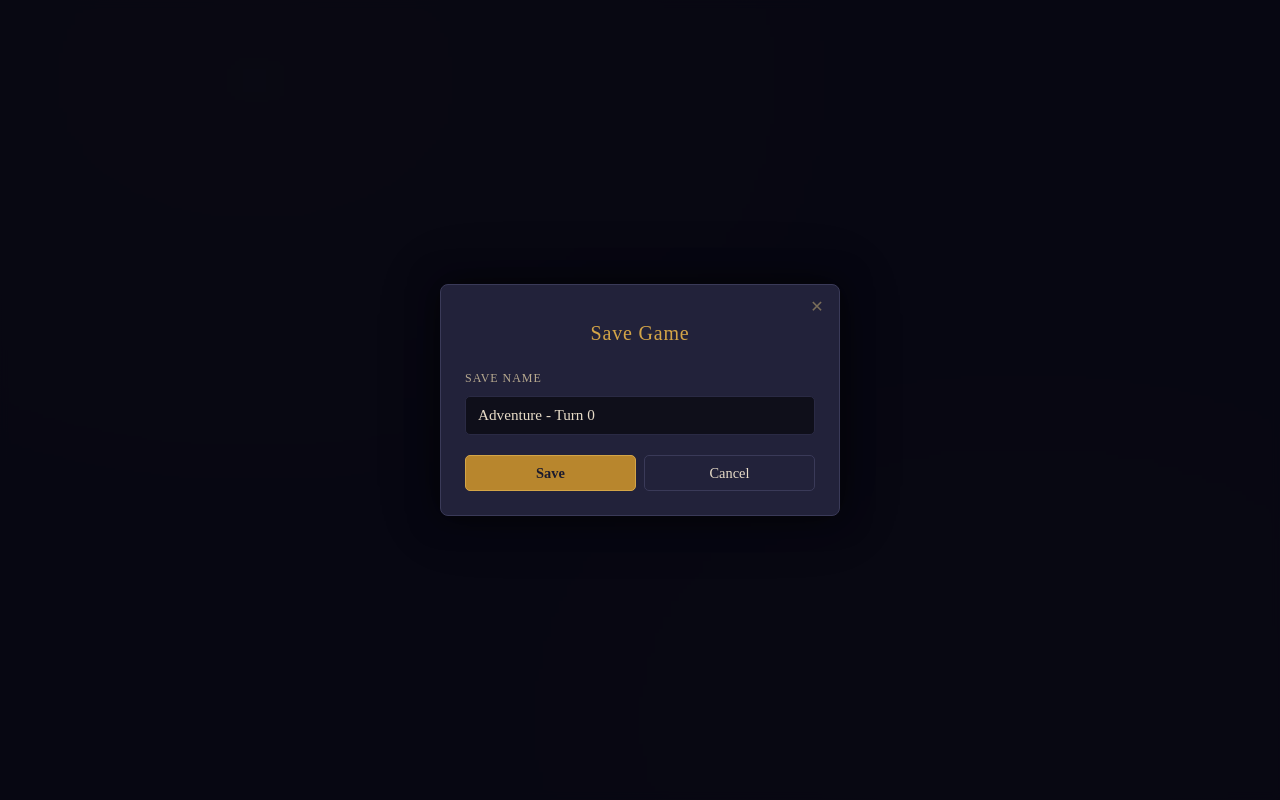
it: SaveGameModal › input phase › shows error when trying to save with empty name
The width and height of the screenshot is (1280, 800).
Clear the field labelled "Save Name" at (640, 415), box top-left (465, 396), bottom-right (815, 435)
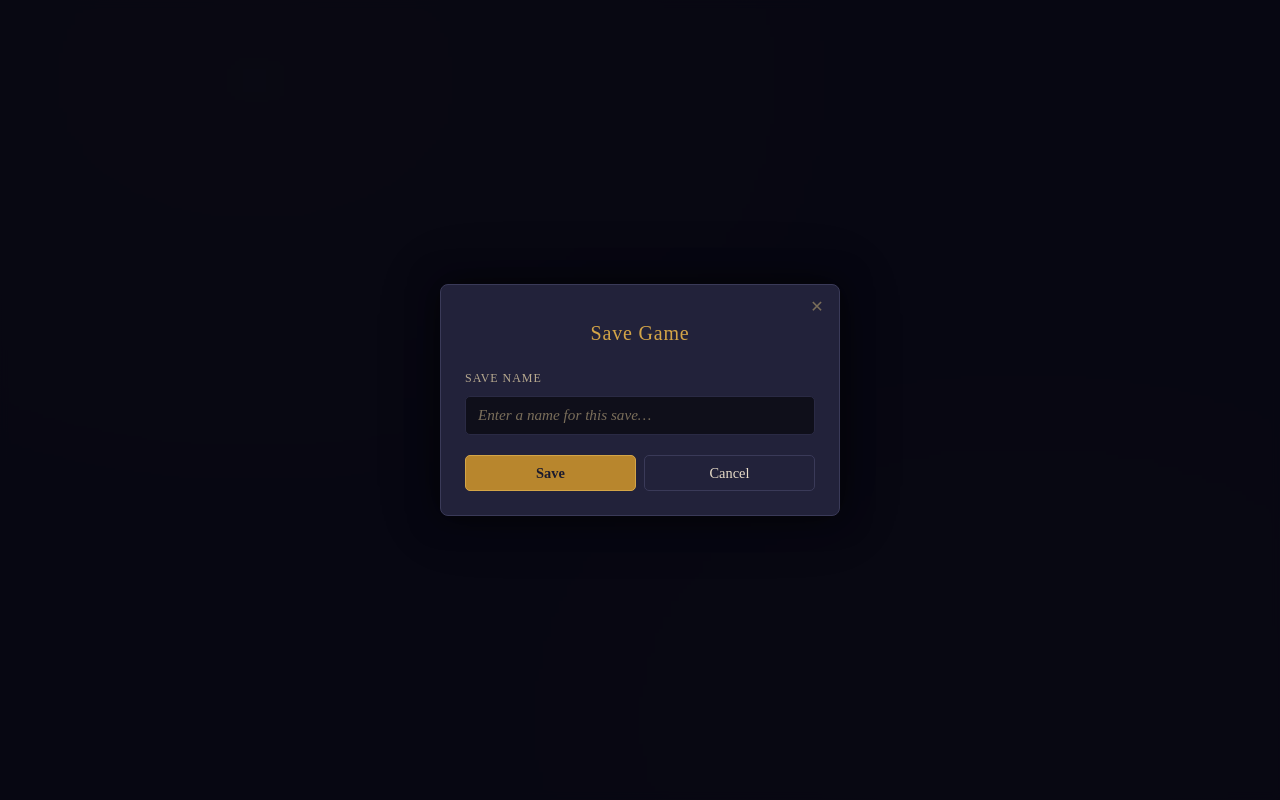
Click the button "Save".
click(550, 473)  # box top-left (465, 455), bottom-right (636, 492)
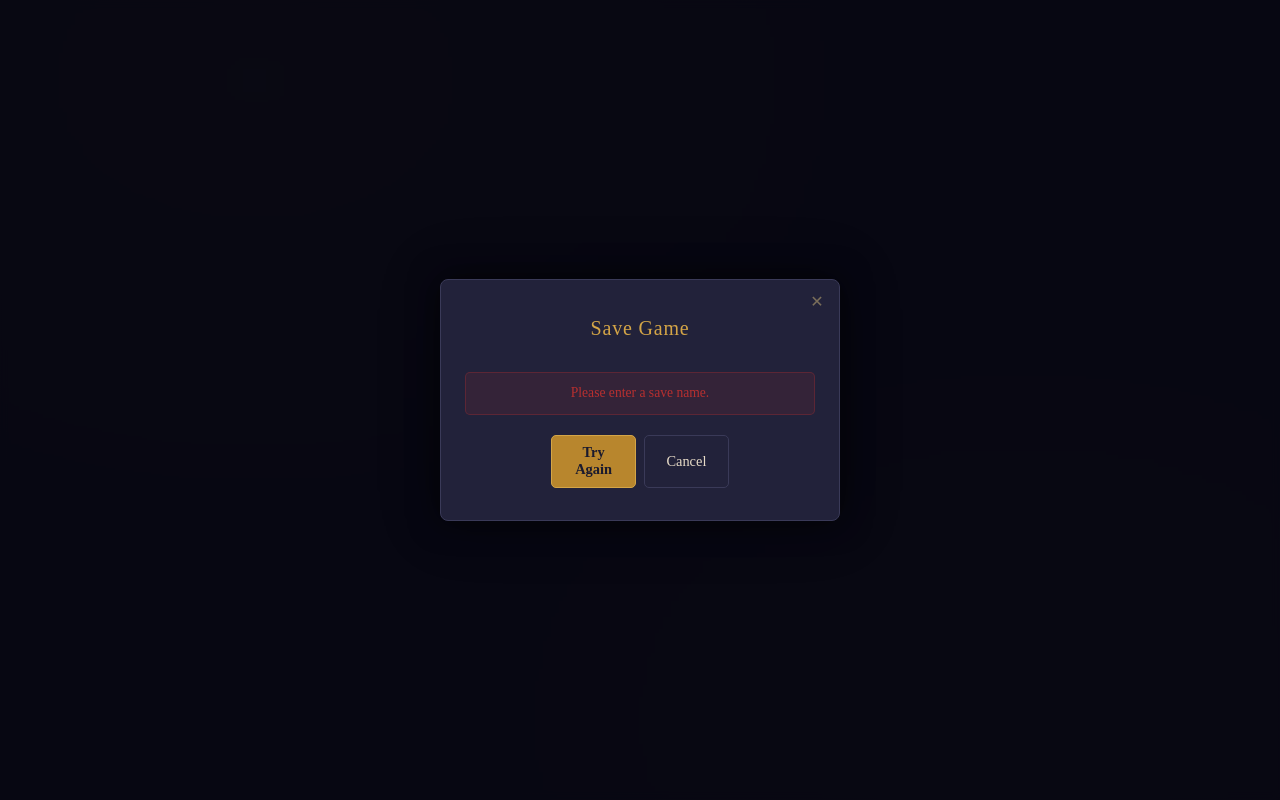
expect the text "Please enter a save name." is shown: met, box top-left (465, 372), bottom-right (815, 415)
expect the button "Try Again" is shown: met, box top-left (551, 435), bottom-right (636, 488)
